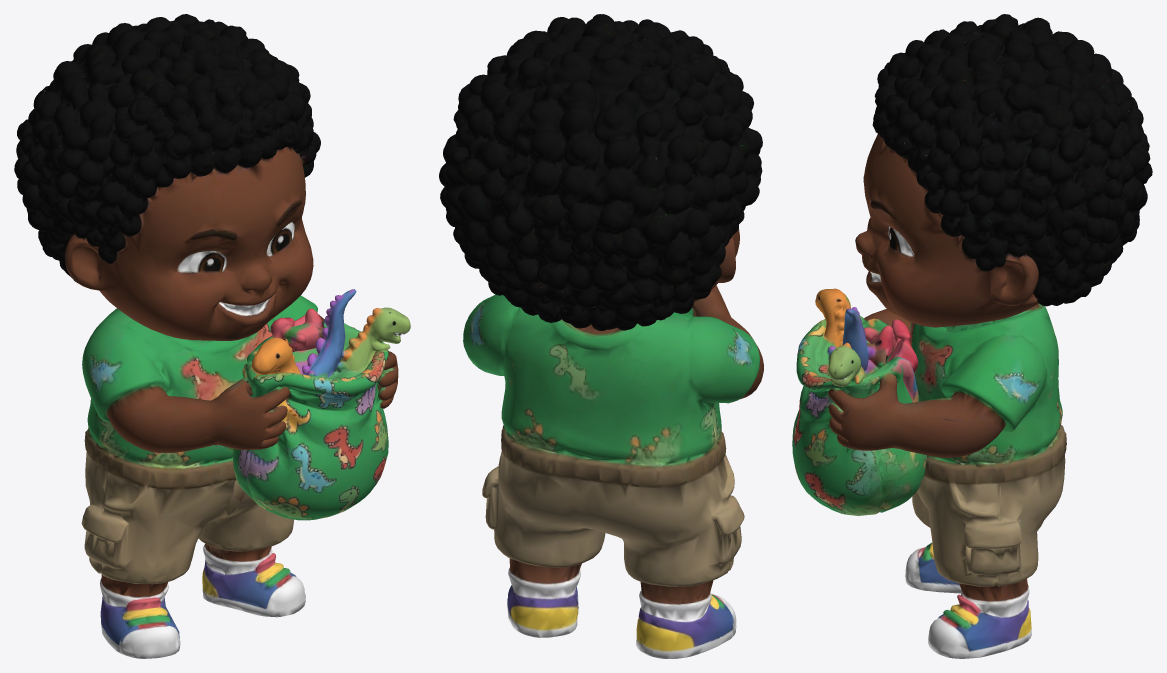
File: giant-baby.glb
3 views of the same model, side by side, from view 1: azimuth 30°, elevation 25°; view 2: azimuth 150°, elevation 25°; view 3: azimuth 270°, elevation 25° (orthographic). The views are drawn at different scales.
Bounding box in the file's own units: 0.9775 × 1.9 × 1.08.
1 material, 1 textured.
